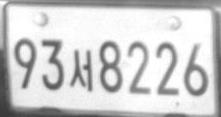2: (155, 42, 178, 95), (127, 41, 150, 93)
3: (41, 38, 64, 91)
6: (184, 43, 208, 96)
8: (98, 40, 123, 92)
9: (12, 38, 37, 89)
서: (69, 49, 93, 90)
